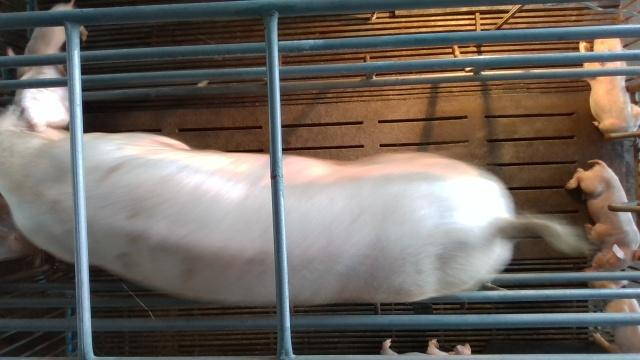piglet: (564, 160, 640, 271), (7, 1, 88, 80), (580, 38, 640, 135), (587, 281, 640, 353)
sow-stand-feed: (0, 64, 581, 304)
